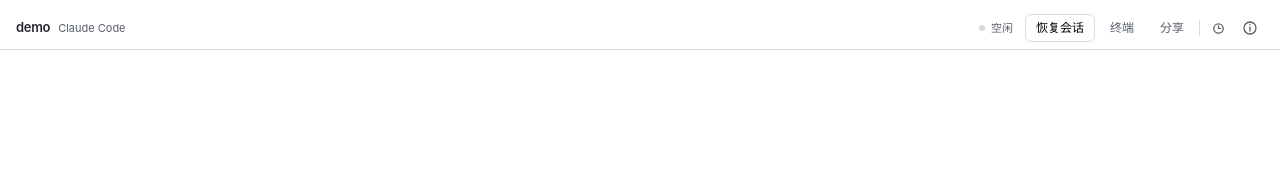
Test: diagnostics are collapsed by default and the expanded native session id can be copied
Expected: the text "a1b2c3d4" is not shown
Expected: the text "目录：" is not shown
Click the button named "显示详情": x=1250, y=28 [1236, 14, 1264, 42]
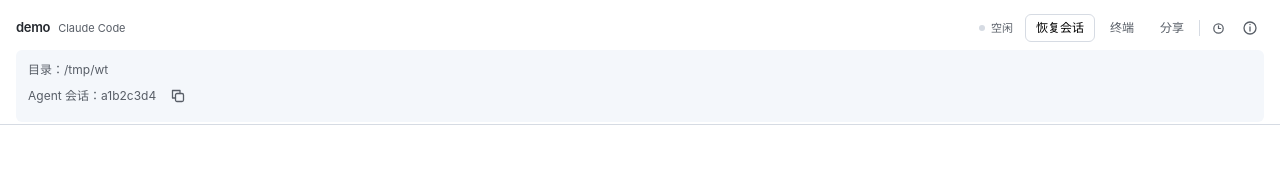
Expected: the text "a1b2c3d4" is shown, [101, 88, 156, 103]
Expected: the text "目录：/tmp/wt" is shown, [28, 62, 108, 77]
Click the button named "复制 Agent 会话标识": x=178, y=96 [164, 82, 192, 110]
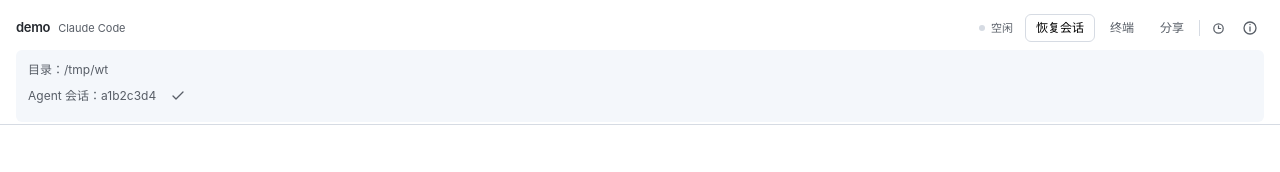
Click the button named "收起详情": x=1250, y=28 [1236, 14, 1264, 42]
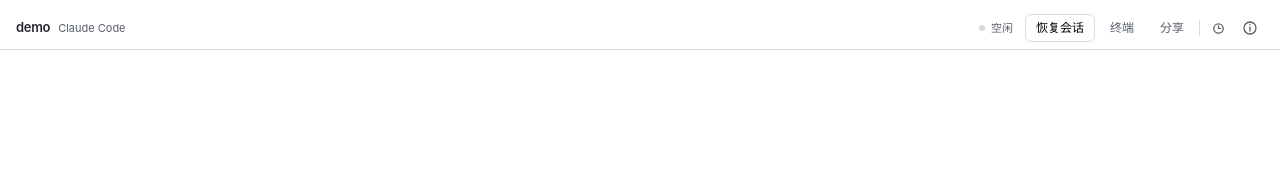
Expected: the button "恢复会话" is shown, [1025, 14, 1095, 42]
Expected: the text "a1b2c3d4" is gone
